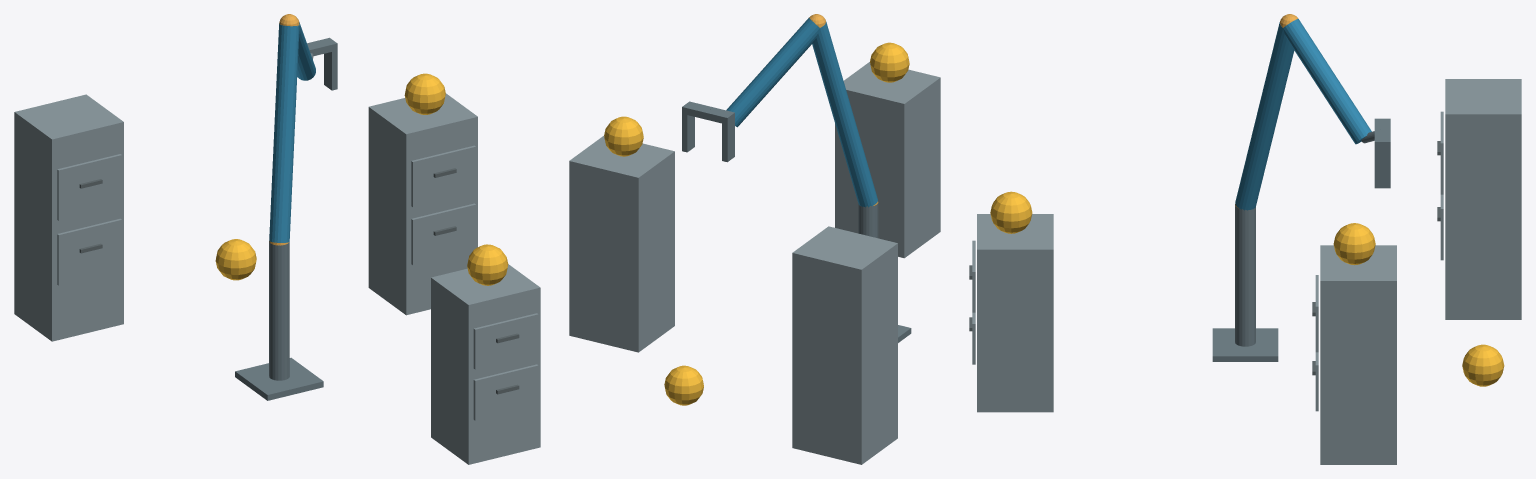
3 renders of one model, left to right at view 1: azimuth 30°, elevation 25°; view 2: azimuth 150°, elevation 25°; view 3: azimuth 270°, elevation 25°, orthographic. The views are drawn at different scales.
Parts seen in each view (by area): view 1: cabinet_3 body, cabinet_2 body, cabinet_1 body, moving link 1, cabinet_3 drawer front.001, cabinet_3 drawer front, cabinet_2 drawer front.001, cabinet_2 drawer front, fixed post, cabinet_1 drawer front.001, cabinet_1 drawer front, pedestal (+4 smaller); view 2: cabinet_3 body, cabinet_2 body, cabinet_1 body, moving link 1, moving link 2, released ball_2, ball ball_3, released ball_1, gripper bridge, fixed post, gripper finger -1, gripper finger 1; view 3: cabinet_3 body, cabinet_2 body, cabinet_1 body, moving link 1, moving link 2, fixed post, pedestal, ball ball_3, released ball_2, released ball_1, gripper finger 1.
Boxes of the visible parts, x1=… form: cabinet_3 body: x1=14, y1=94, x2=123, y2=341; cabinet_2 body: x1=368, y1=93, x2=477, y2=315; cabinet_1 body: x1=431, y1=264, x2=540, y2=464; moving link 1: x1=269, y1=24, x2=299, y2=242; cabinet_3 drawer front.001: x1=57, y1=154, x2=121, y2=220; cabinet_3 drawer front: x1=57, y1=218, x2=121, y2=285; cabinet_2 drawer front.001: x1=411, y1=145, x2=475, y2=207; cabinet_2 drawer front: x1=411, y1=203, x2=475, y2=264; fixed post: x1=269, y1=241, x2=289, y2=380; cabinet_1 drawer front.001: x1=473, y1=313, x2=538, y2=369; cabinet_1 drawer front: x1=473, y1=364, x2=538, y2=420; pedestal: x1=235, y1=357, x2=323, y2=400; cabinet_3 body: x1=792, y1=226, x2=897, y2=464; cabinet_2 body: x1=569, y1=136, x2=674, y2=352; cabinet_1 body: x1=835, y1=62, x2=940, y2=258; moving link 1: x1=812, y1=21, x2=877, y2=207; moving link 2: x1=726, y1=17, x2=819, y2=127; released ball_2: x1=604, y1=116, x2=643, y2=156; ball ball_3: x1=664, y1=365, x2=703, y2=405; released ball_1: x1=870, y1=42, x2=909, y2=82; gripper bridge: x1=682, y1=101, x2=734, y2=124; fixed post: x1=858, y1=203, x2=878, y2=238; gripper finger -1: x1=722, y1=119, x2=734, y2=162; gripper finger 1: x1=682, y1=114, x2=694, y2=152; cabinet_3 body: x1=1445, y1=79, x2=1521, y2=319; cabinet_2 body: x1=1320, y1=245, x2=1396, y2=464; cabinet_1 body: x1=977, y1=214, x2=1053, y2=412; moving link 1: x1=1235, y1=22, x2=1294, y2=210; moving link 2: x1=1283, y1=18, x2=1371, y2=144; fixed post: x1=1235, y1=205, x2=1255, y2=346; pedestal: x1=1212, y1=328, x2=1278, y2=361; ball ball_3: x1=1462, y1=344, x2=1504, y2=386; released ball_2: x1=1333, y1=223, x2=1375, y2=265; released ball_1: x1=990, y1=191, x2=1032, y2=233; gripper finger 1: x1=1374, y1=149, x2=1390, y2=188.
Bounding box in the file's own units: 1.62 × 1.46 × 2.1.
